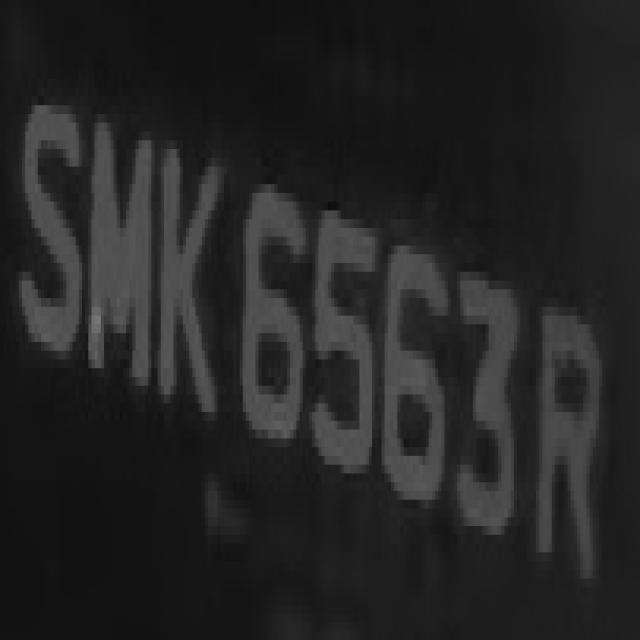3: (454, 193, 526, 535)
5: (306, 167, 384, 552)
6: (230, 158, 312, 473), (378, 184, 448, 535)
K: (151, 79, 221, 465)
M: (88, 96, 161, 421)
R: (530, 290, 614, 588)
S: (16, 52, 85, 394)
